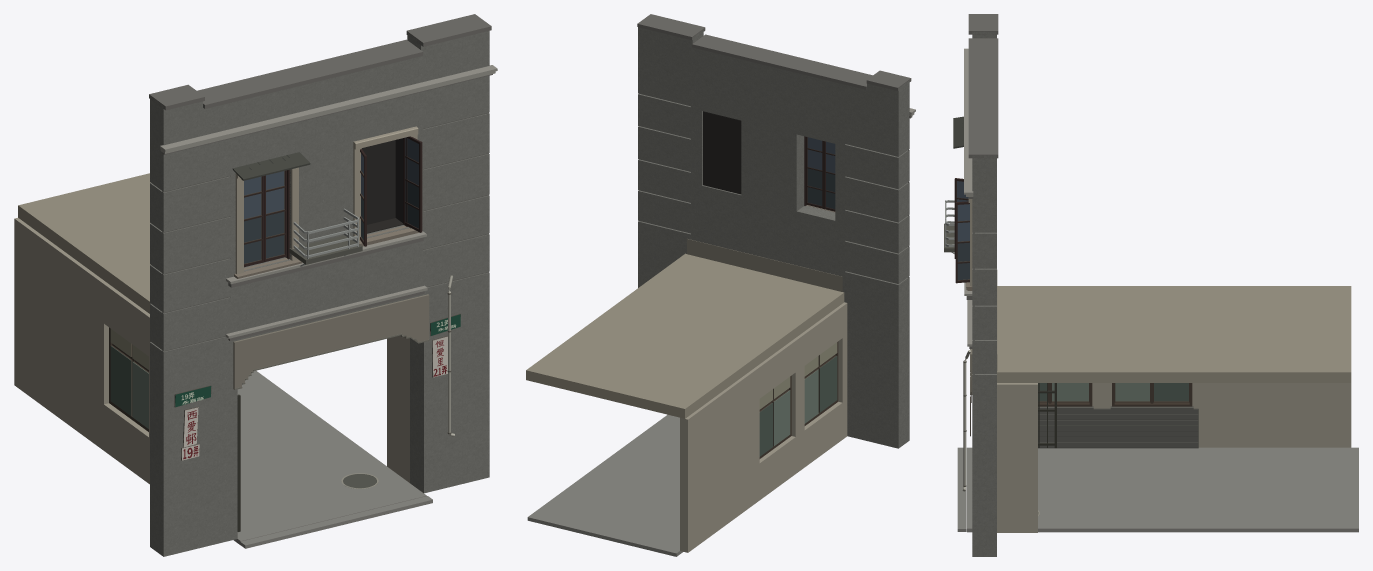
Rendered from huangpu-xiai-hengai-common-lane-gate-web.glb.
The picture shows the model from 3 angles, left to right: view 1: azimuth 30°, elevation 25°; view 2: azimuth 150°, elevation 25°; view 3: azimuth 270°, elevation 25°; orthographic projection. The views are drawn at different scales.
Parts seen in each view (by area): view 1: 永嘉路西爱村与恒爱里共用弄口; view 2: 永嘉路西爱村与恒爱里共用弄口; view 3: 永嘉路西爱村与恒爱里共用弄口.
Boxes of the visible parts, x1,y1,x2,y2 form: 永嘉路西爱村与恒爱里共用弄口: (14,14,497,556); 永嘉路西爱村与恒爱里共用弄口: (526,14,915,556); 永嘉路西爱村与恒爱里共用弄口: (944,14,1358,556).
Bounding box in the file's own units: 6.18 × 8.13 × 7.53.
Materials: 36 (1 with a texture image).
